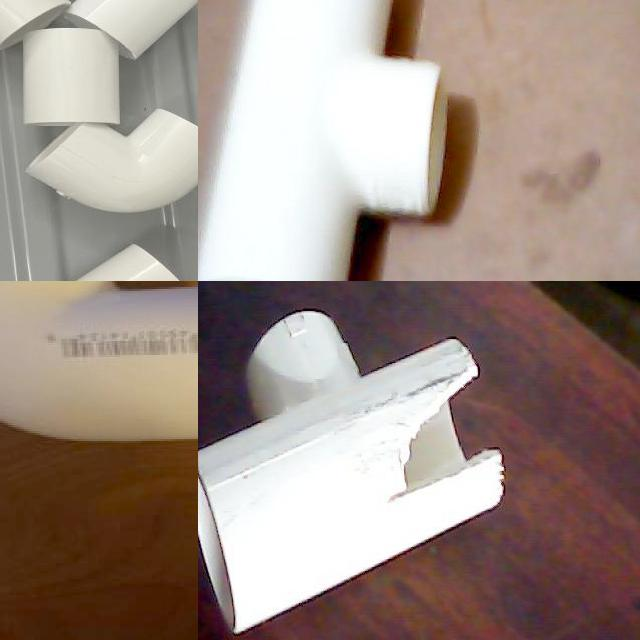Defective: (387, 362, 503, 498)
T Joint: (198, 310, 505, 636), (198, 0, 447, 281)
